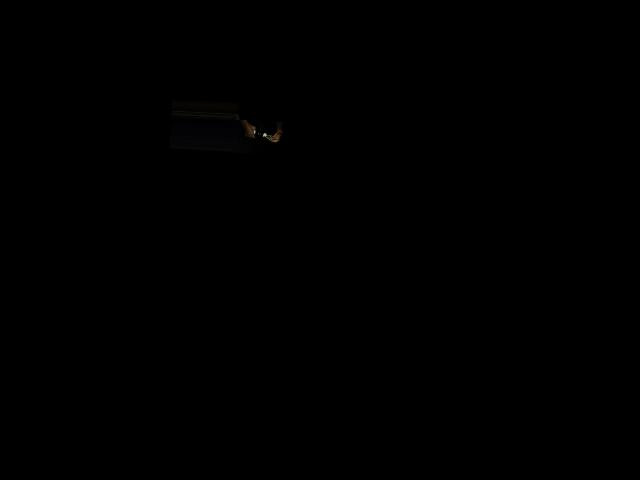beer: (241, 127, 271, 138)
